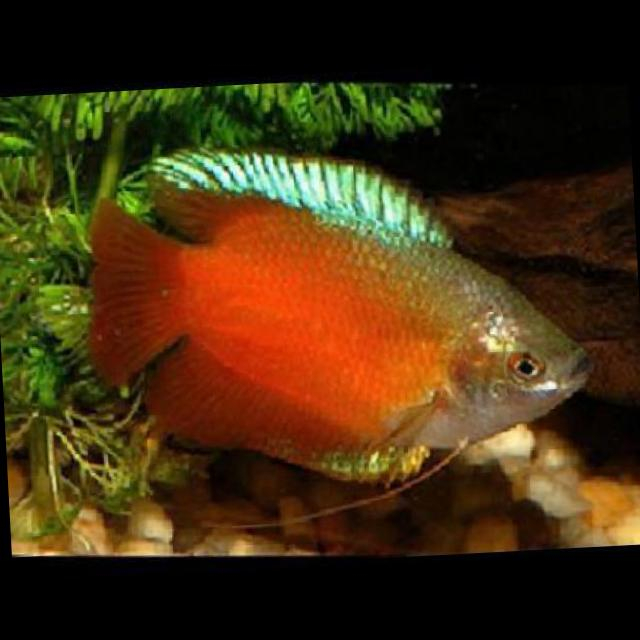Gourami: (87, 124, 595, 492)
